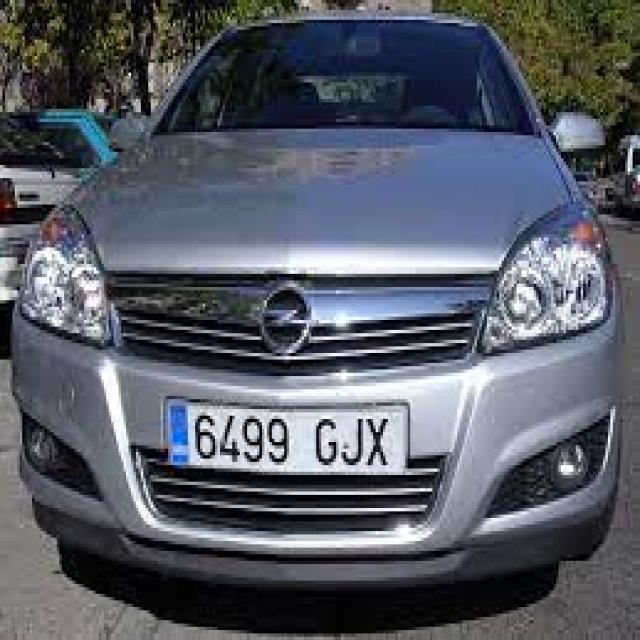football: (166, 399, 410, 474)
